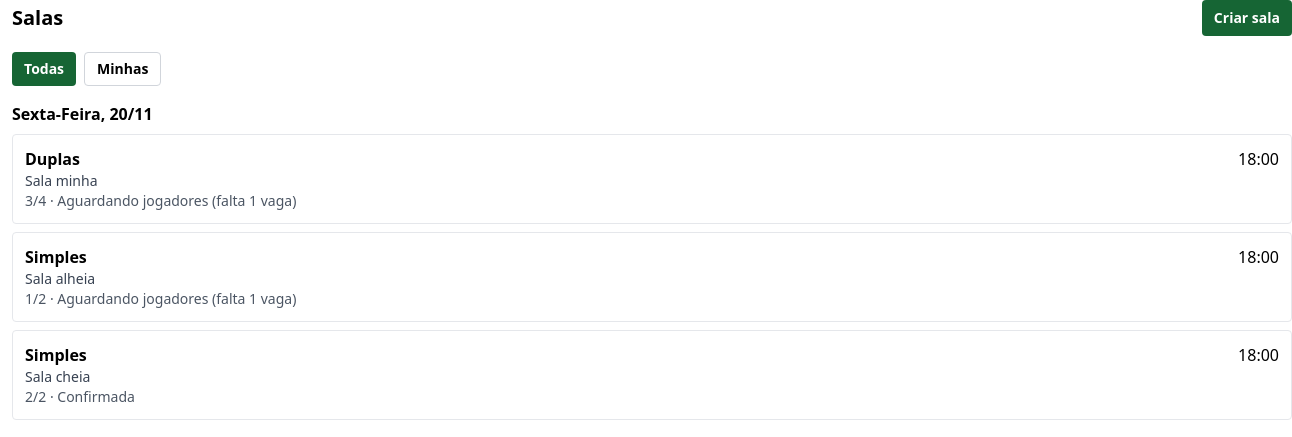
it: Minhas filtra pelas salas em que o usuário está
The width and height of the screenshot is (1292, 437).
Expected: the text "Sala alheia" is shown, [25,269,95,288]
What coordinates should you click on to do the following:
click the button "Minhas"
I would click on:
 (123, 69)
Its box is [84,52,161,86].
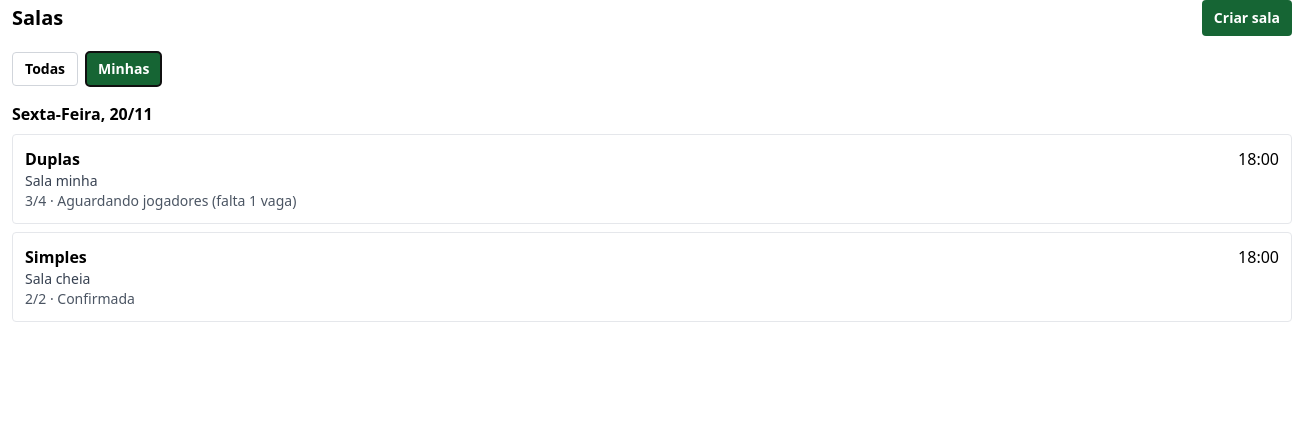
Expected: the text "Sala minha" is shown, [25,171,98,190]
Expected: the link "Sala alheia" is gone
What coordinates should you click on to do the following:
click the button "Todas"
I would click on:
 (45, 69)
Its box is [12,52,78,86].
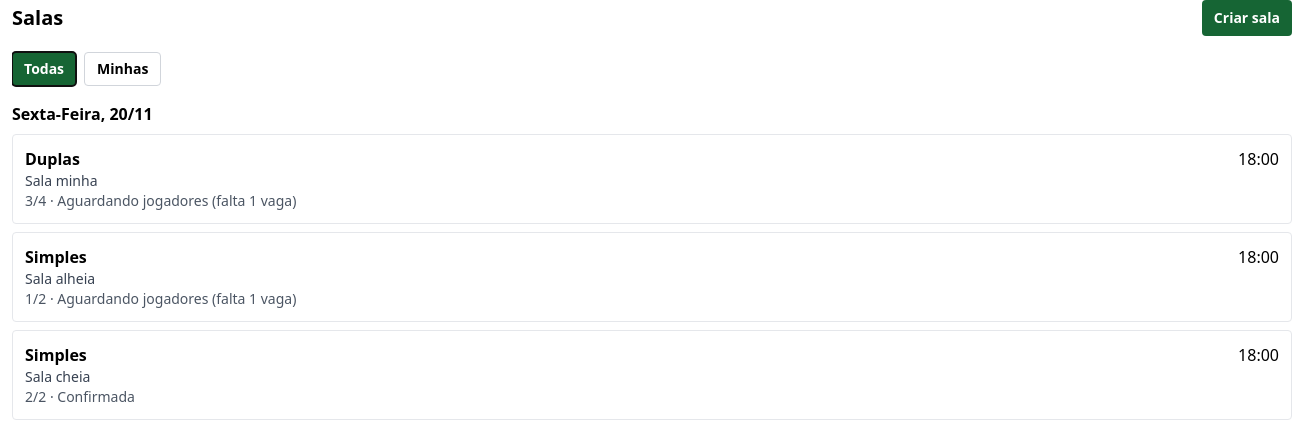
Expected: the text "Sala alheia" is shown, [25,269,95,288]
